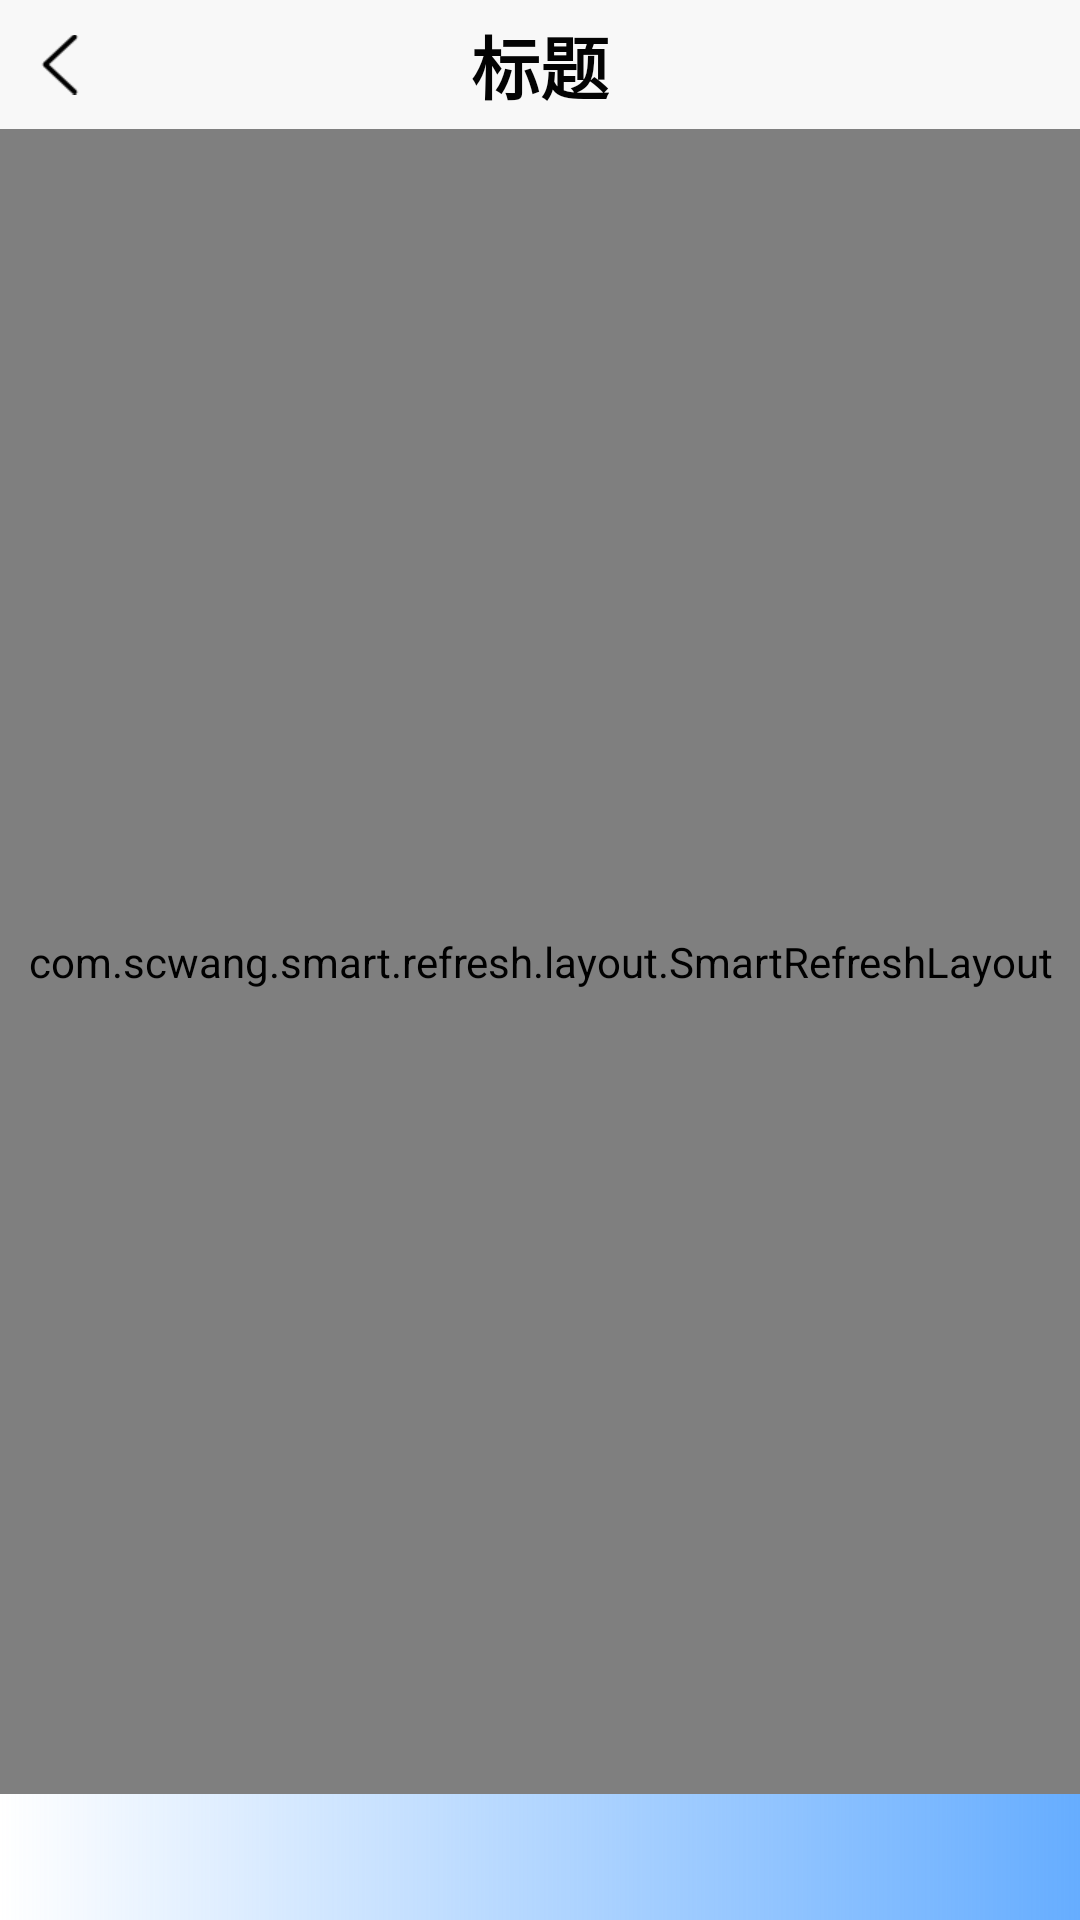

Point at icon controls on the screen. Image size 1080x1920, points as point (x, y).
back: point (60, 65)
